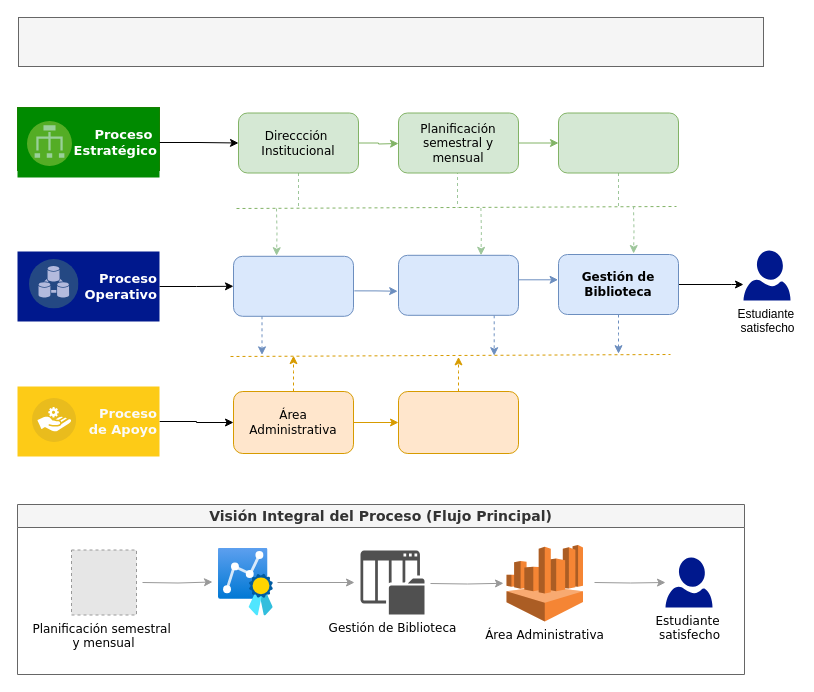
The diagram is 814 pixels wide and 692 high, and some of its shapes have lost their labels. Grey dashed boxes stand in for pictures. Here are the shapes that lost their labels. From the top down, the centre of each, then its label:
At (x=391, y=41): "Visión organizacional basada en procesos Centro Escolar Simón Bolivar".
At (x=618, y=142): "Seguimiento y evaluación estudiantil".
At (x=293, y=285): "Área de Docencia".
At (x=458, y=284): "Matrícula y Registro académico".
At (x=458, y=422): "Mantenimiento y Limpieza".
At (x=245, y=582): "Matricula y Registro Académico".
